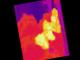Foc: (26, 6, 64, 52)
